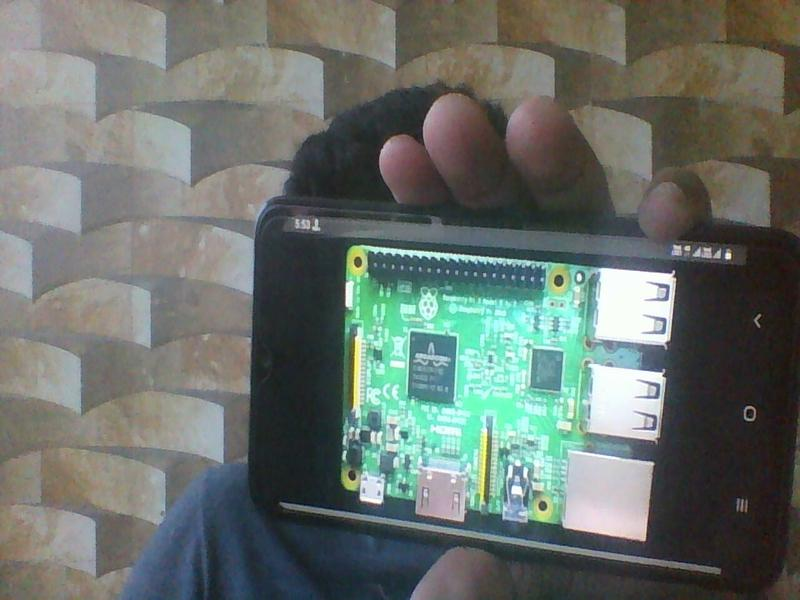aud: (500, 459, 532, 532)
eth: (561, 452, 654, 543)
usb: (581, 361, 667, 444), (590, 266, 677, 348)
